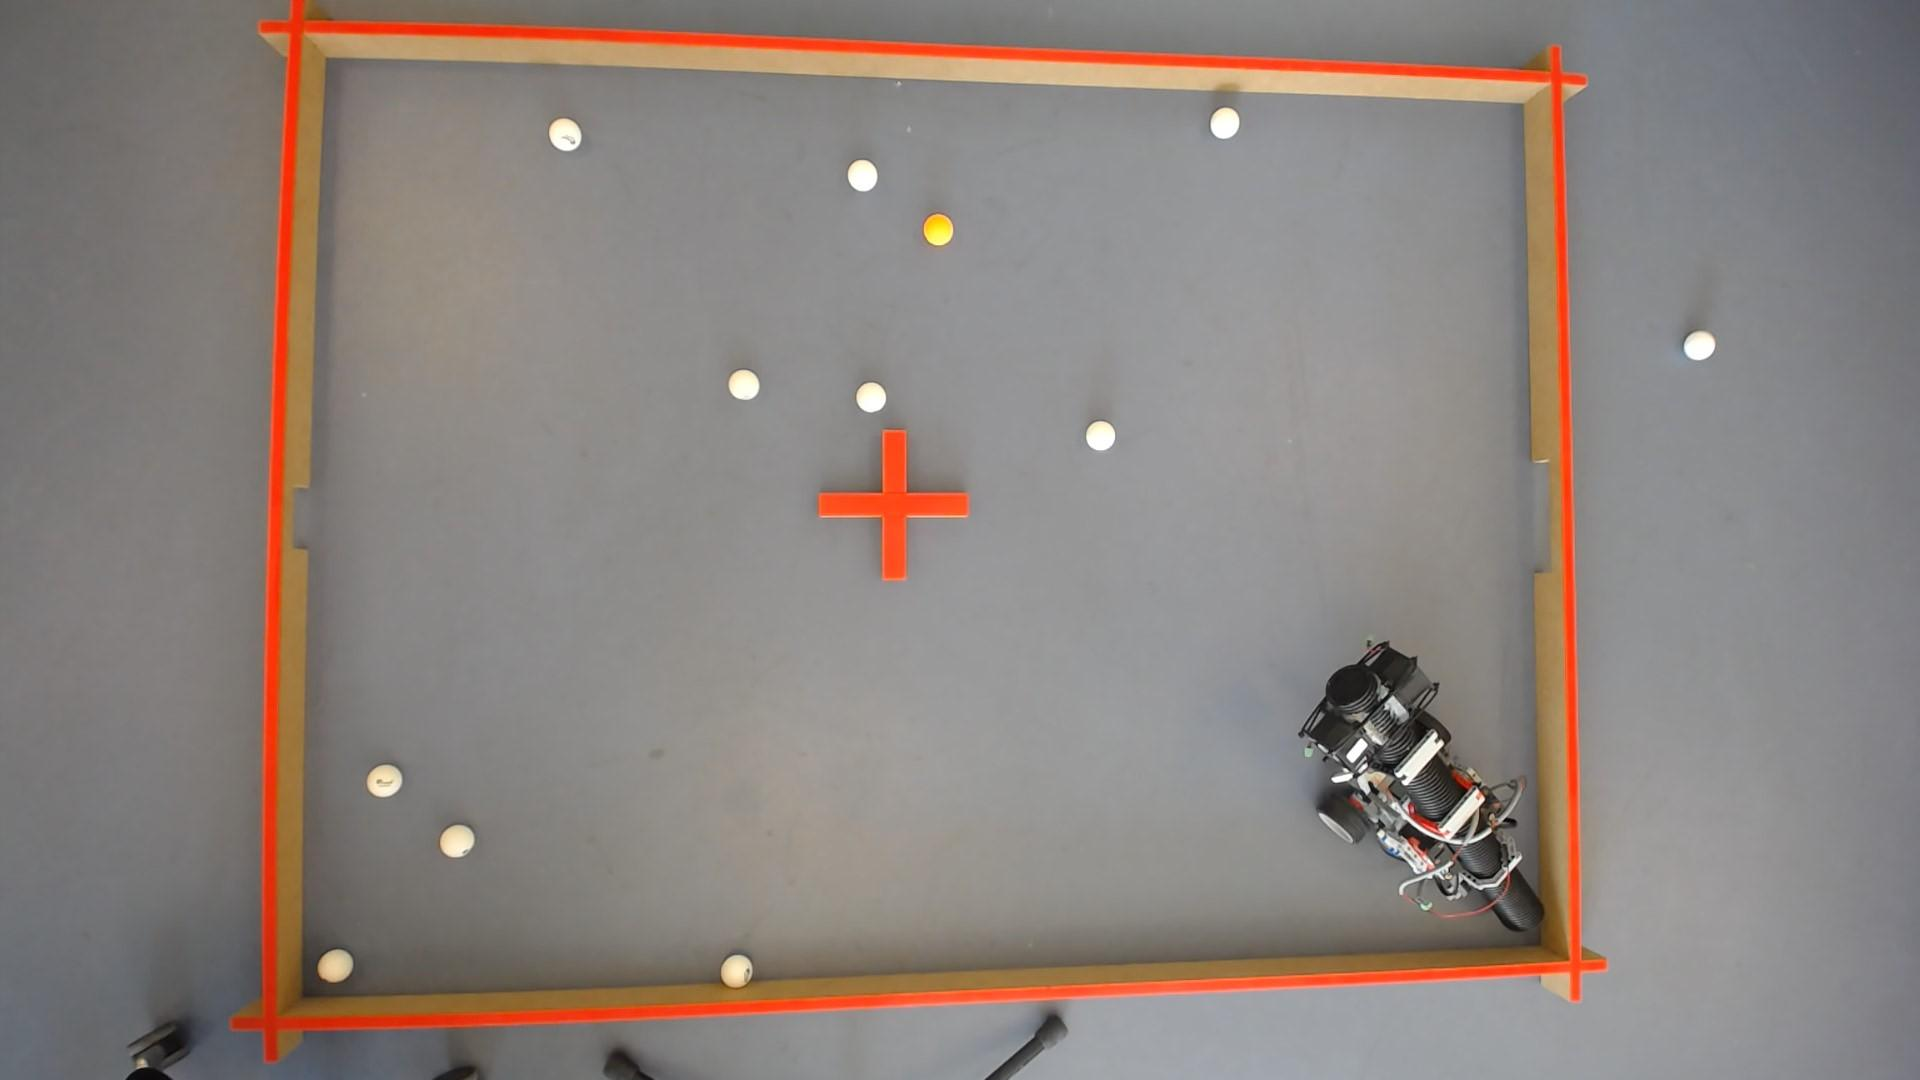orange: (924, 212, 953, 244)
robot: (1300, 641, 1549, 932)
white: (719, 953, 754, 989), (315, 949, 352, 984), (436, 824, 473, 857), (547, 115, 582, 149), (365, 764, 400, 796), (1212, 104, 1241, 137), (1087, 419, 1117, 450), (848, 157, 877, 189), (728, 369, 760, 398), (856, 381, 887, 410)
